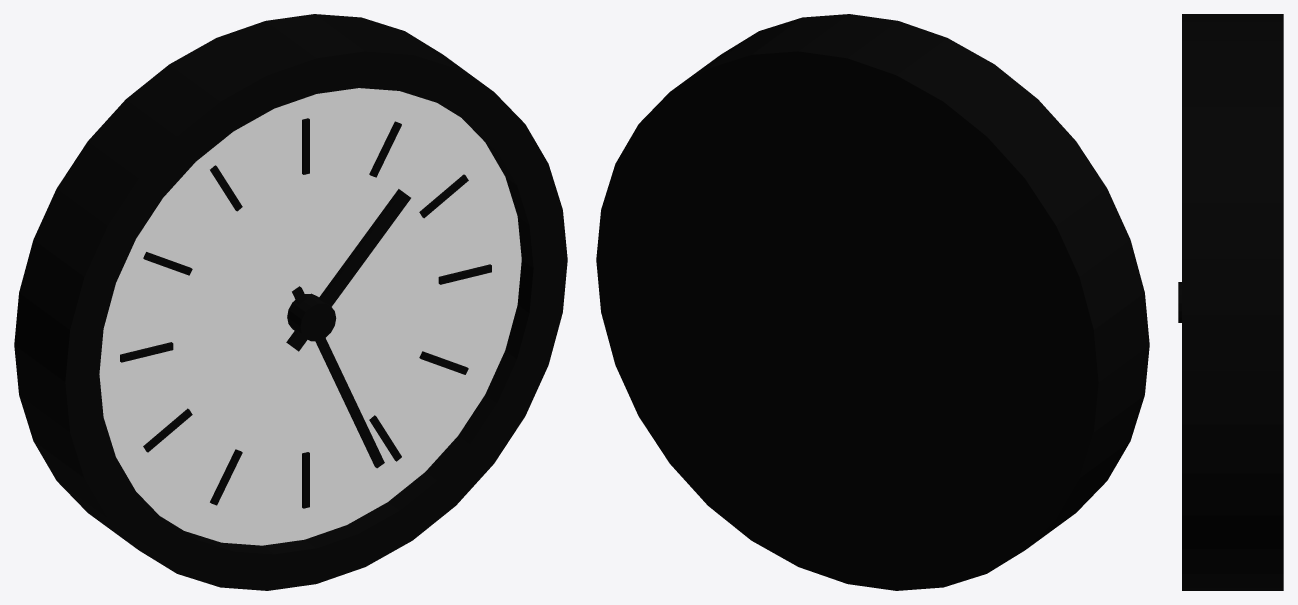
File: saat.fbx
3 views of the same model, side by side, from view 1: azimuth 30°, elevation 25°; view 2: azimuth 150°, elevation 25°; view 3: azimuth 270°, elevation 25° (orthographic).
Visible parts, largest first — view 1: Obj_Clock_0; view 2: Obj_Clock_0; view 3: Obj_Clock_0.
Part boxes in pixels (box(x1,y1,x2,y2)): Obj_Clock_0: box(14, 14, 567, 590); Obj_Clock_0: box(596, 14, 1149, 590); Obj_Clock_0: box(1178, 14, 1283, 590).
Bounding box in the file's own units: 57.01 × 57.01 × 10.4.
Materials: 1 (1 with a texture image).
